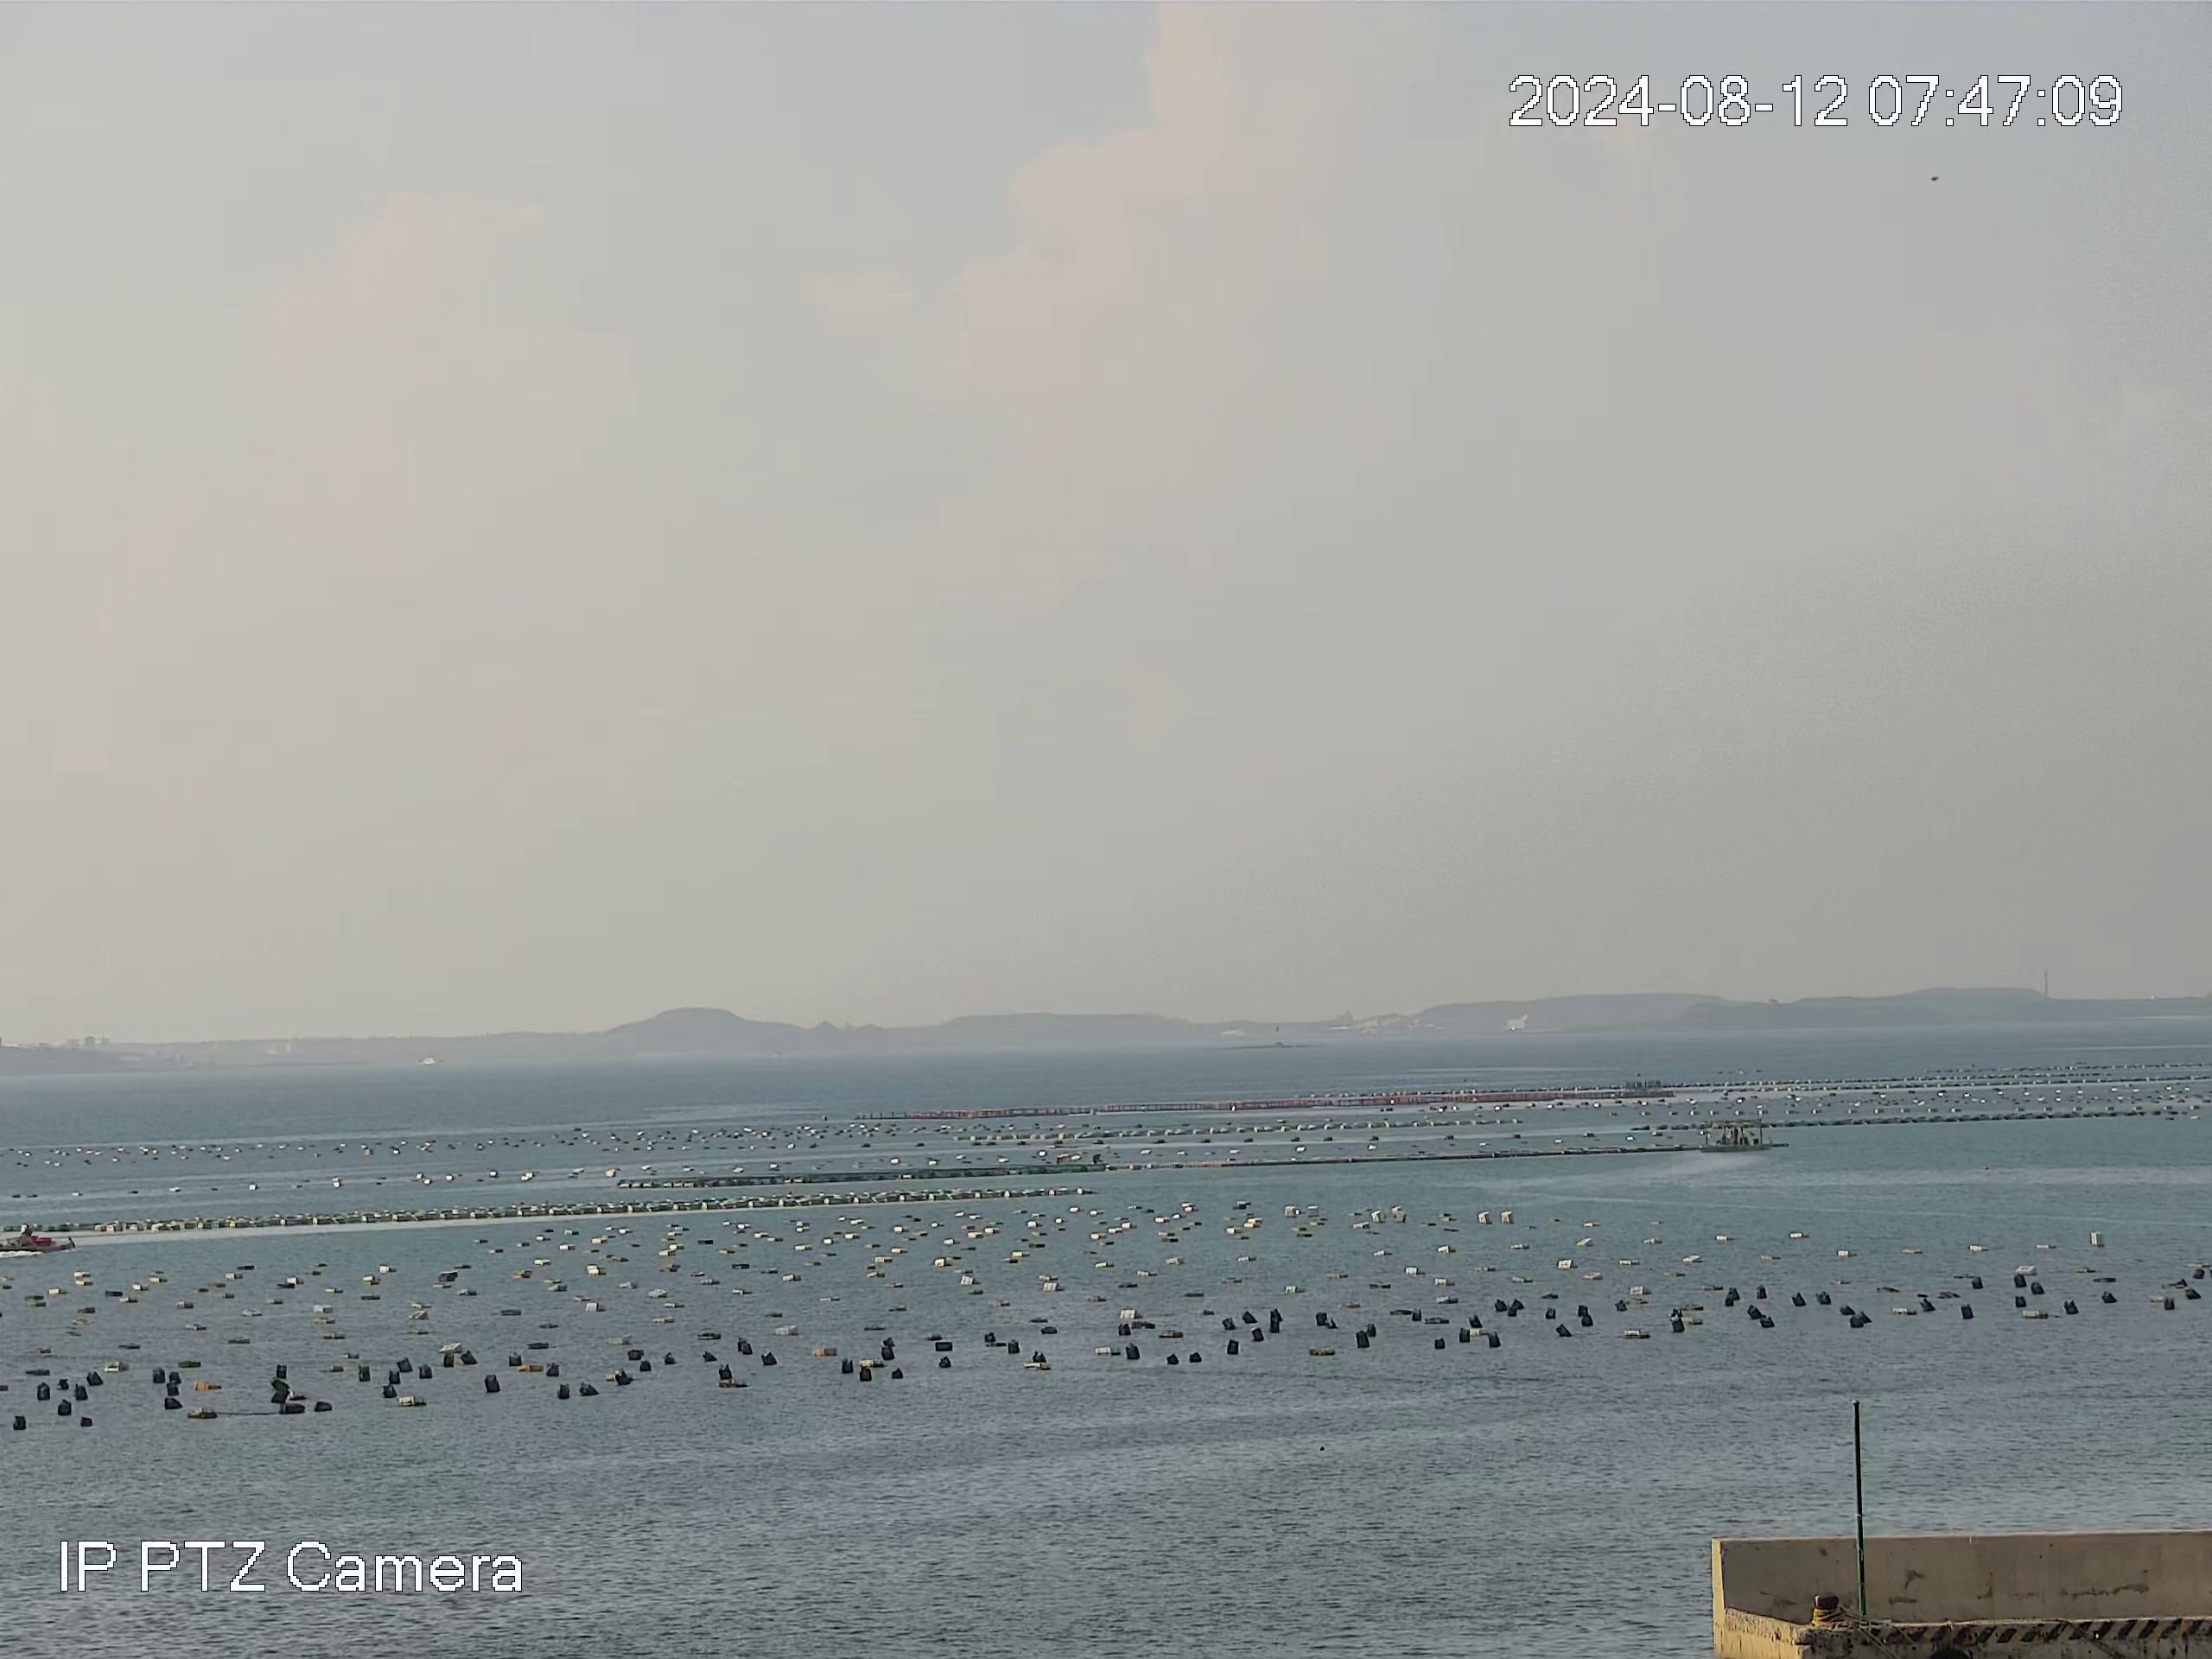boat: (1, 1223, 76, 1255), (1699, 1120, 1774, 1152)
